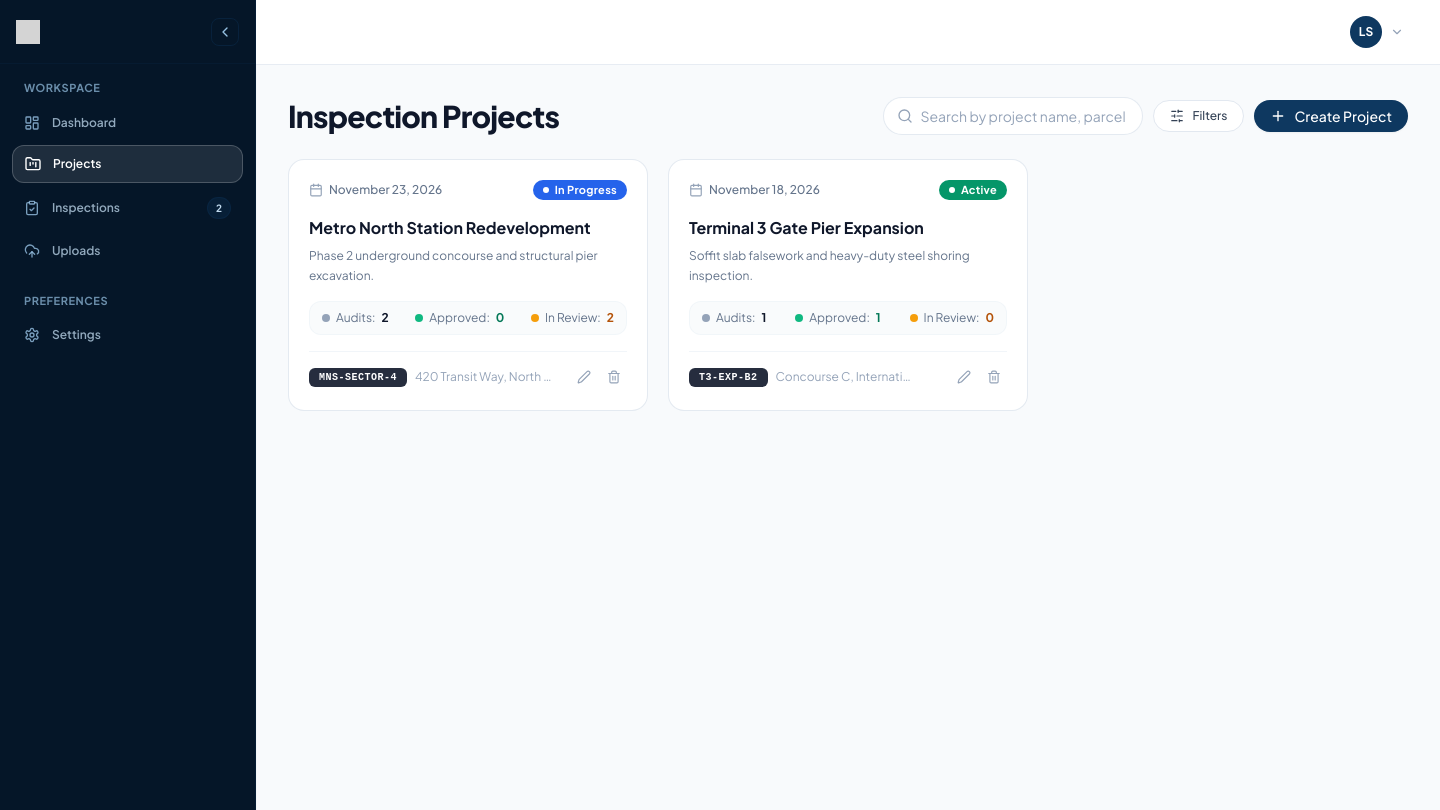
Test: ForeSite Project Deletion Modal & Persistence › renders sleek Delete Project modal without Cascade Cleanup Warning and persists deletion across refresh
The width and height of the screenshot is (1440, 810).
Expected: the heading "Metro North Station Redevelopment" is shown, [309,216,627,240]
Click the button titled "Delete Project": (614, 377) [601,364,627,390]
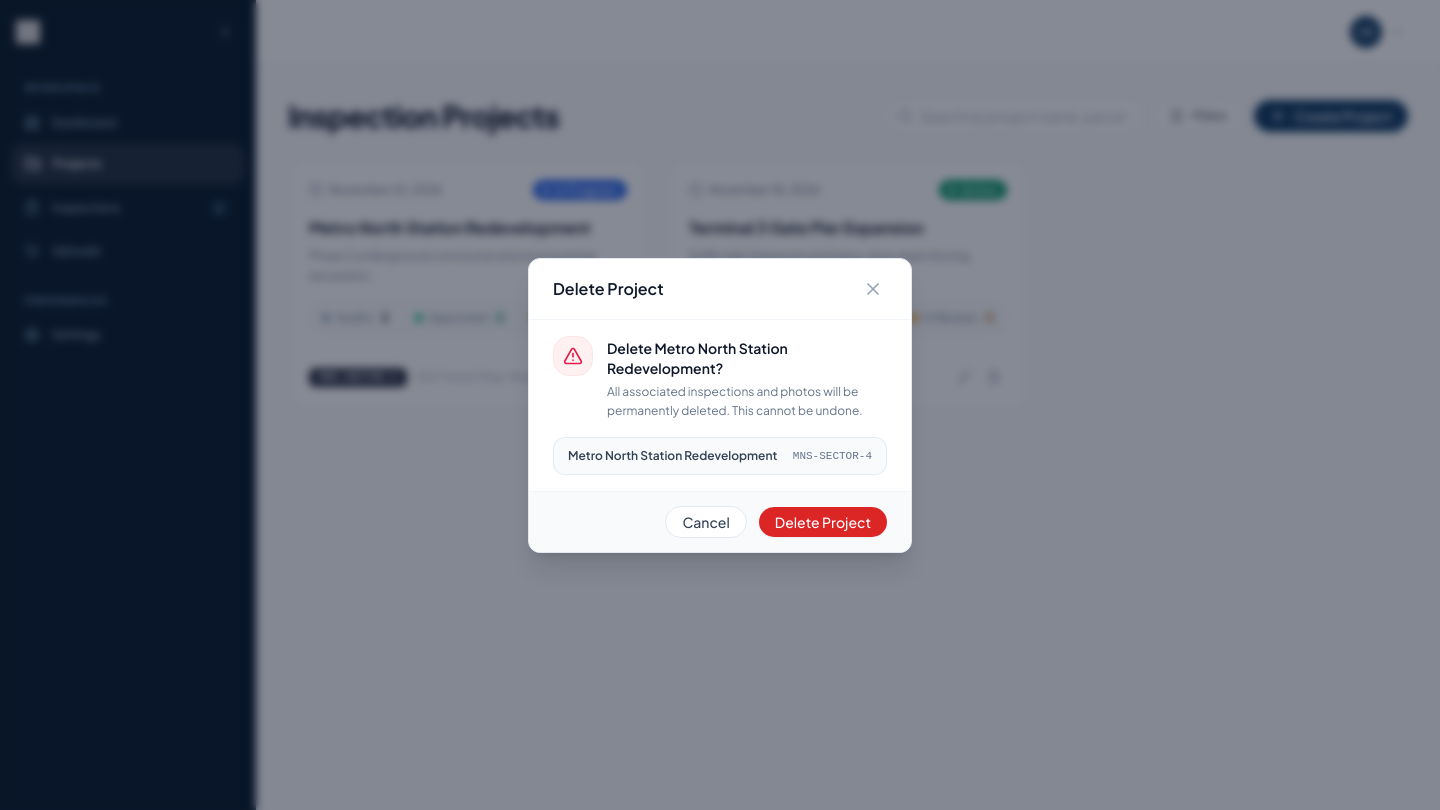
Now the text "Delete Metro North Station Redevelopment?" is shown, box [607,338,788,376]
Now the button "Delete Project" is shown
// Confirm deletion
Click the button "Delete Project": (823, 522) [759,506,887,536]
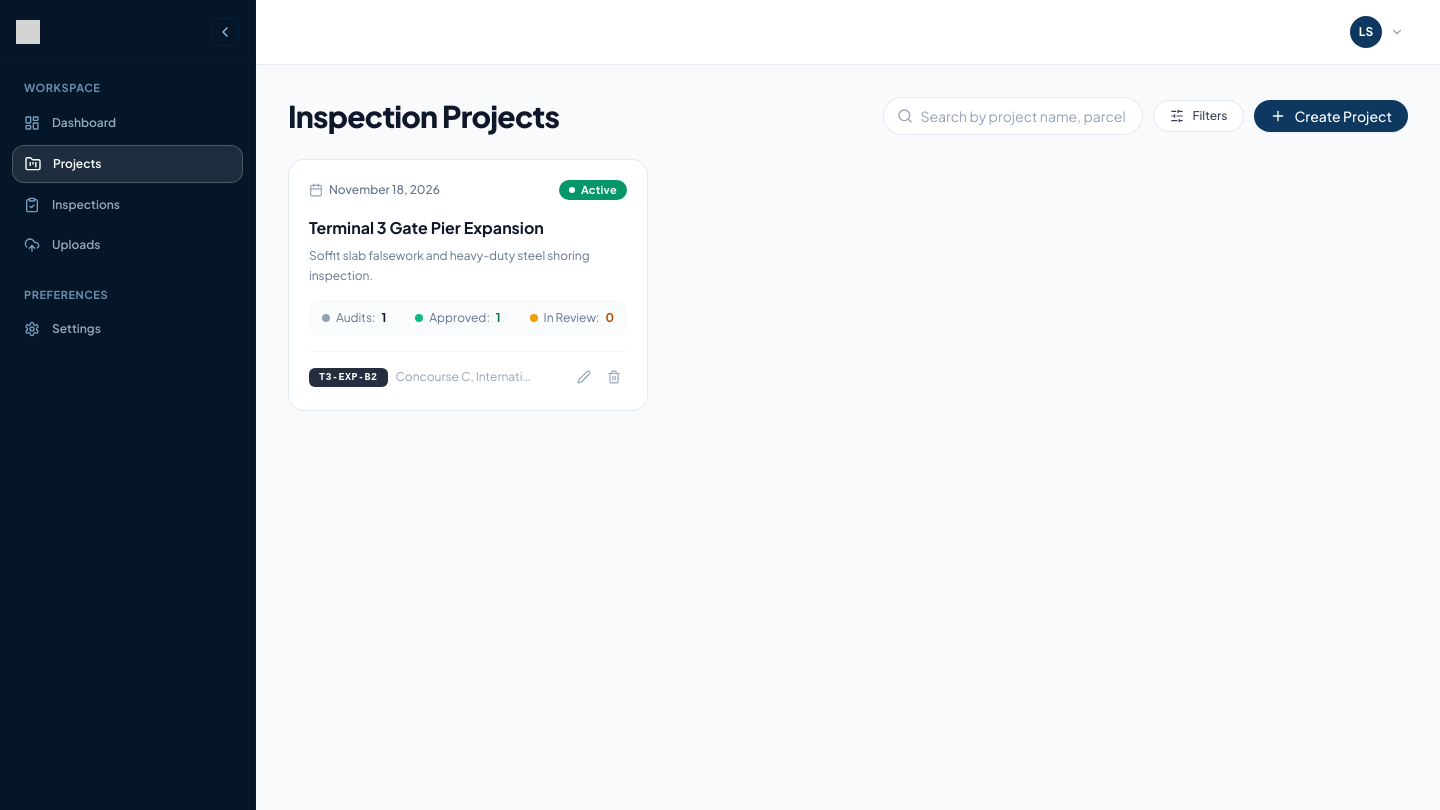
Now the heading "Metro North Station Redevelopment" is gone
